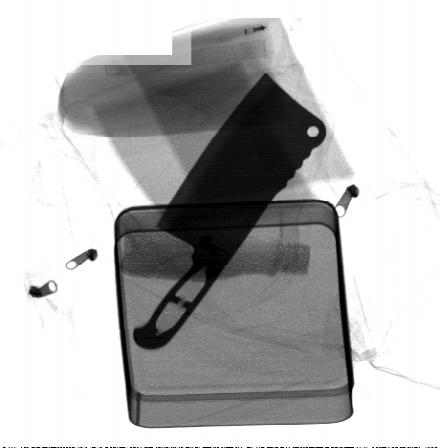Knife: (132, 70, 328, 352)
